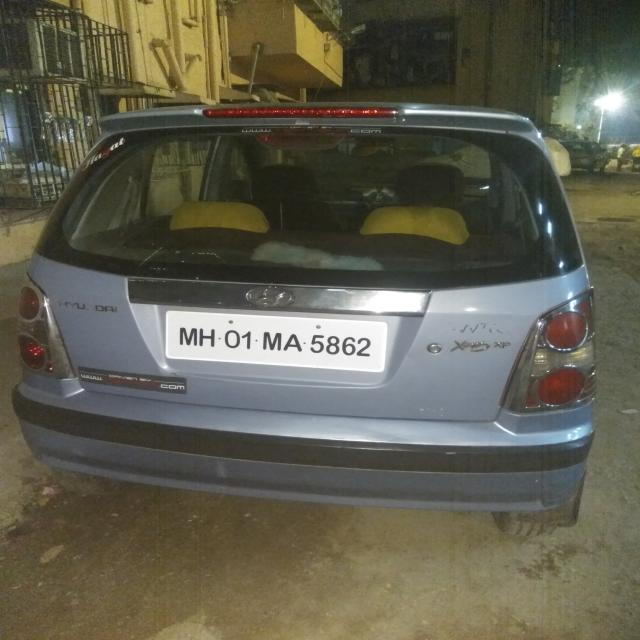Number-Plate: (172, 313, 387, 362)
